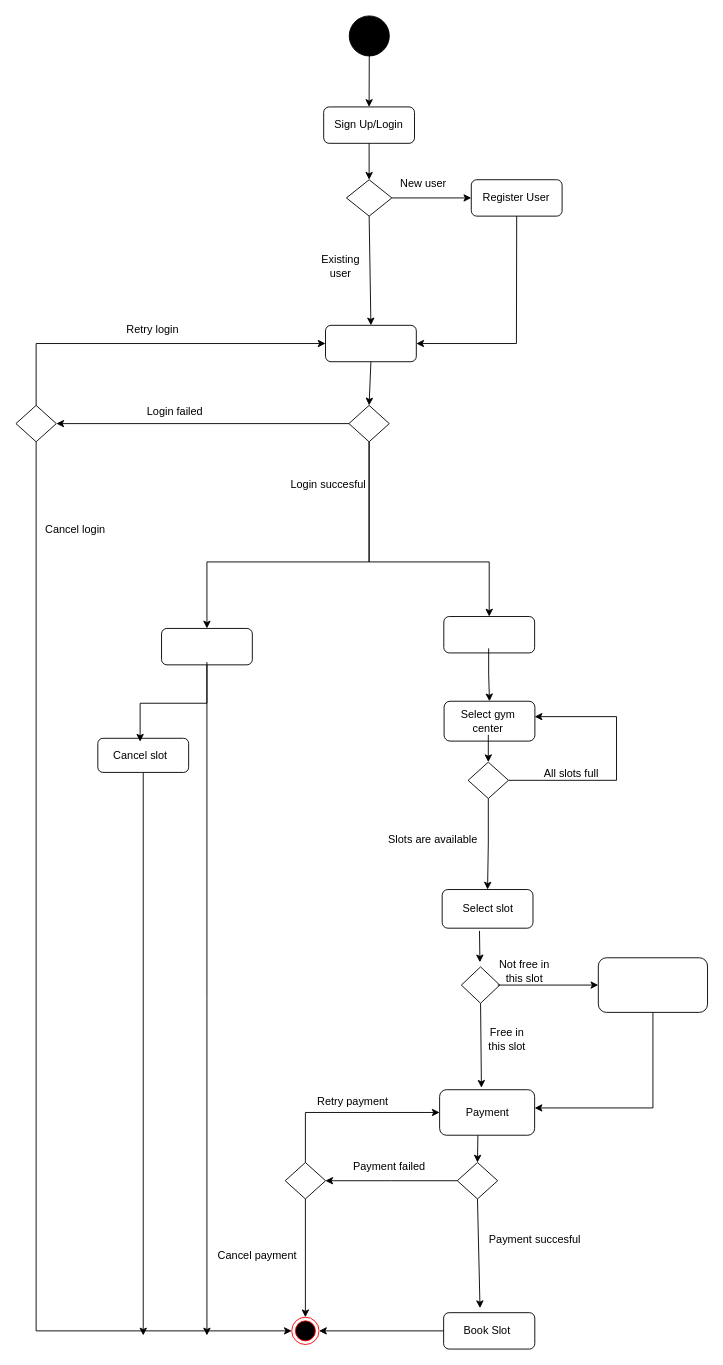
Image size: 723x1365. Some labels were removed from this diagram. Here are the shapes that lost their labels. From the top down, the centre of each, then its label:
(370,343): Login
(206,646): View booked slots
(489,634): Enter Date
(652,984): Cancel Previous Booking
